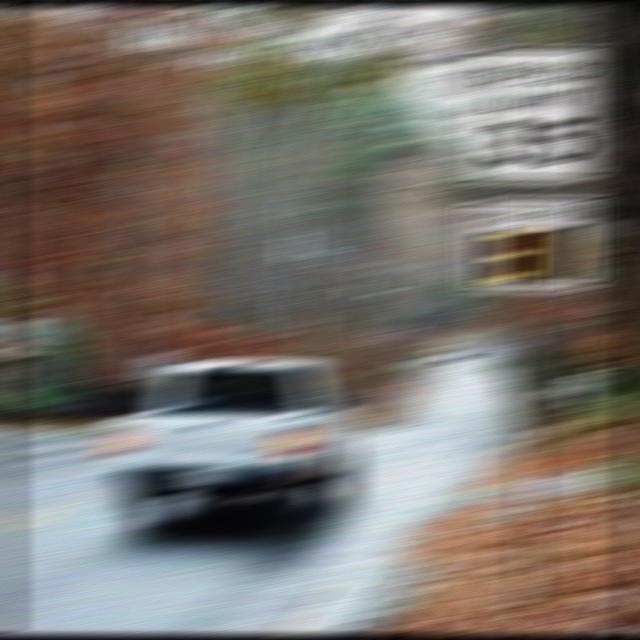speedLimit35: (470, 44, 600, 183)
